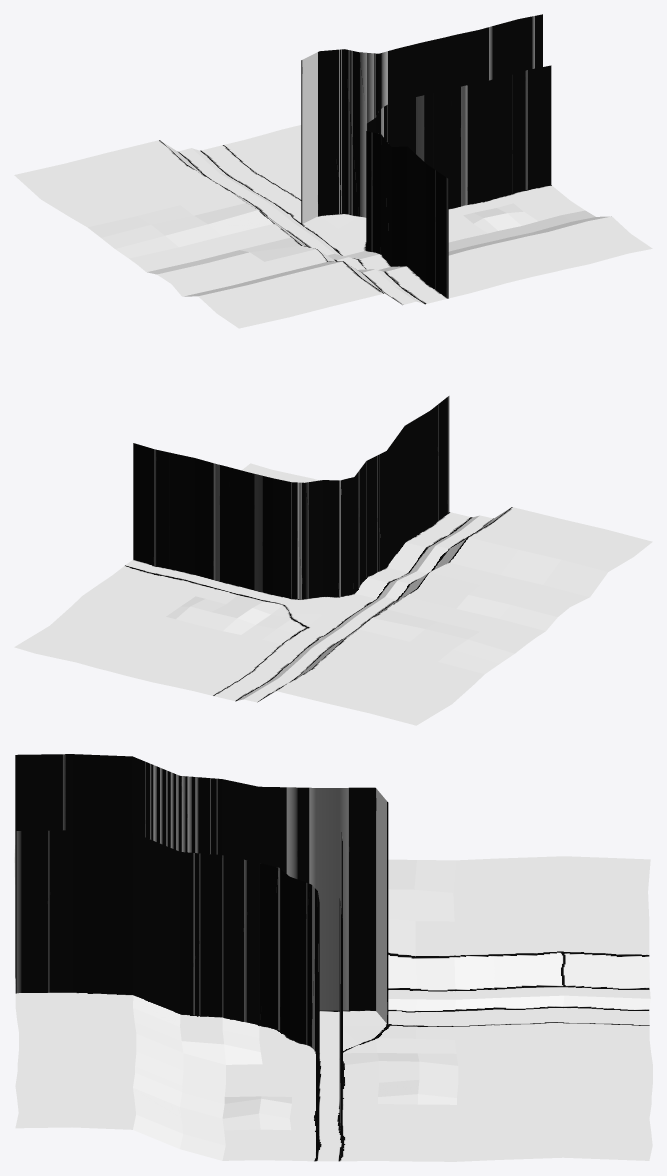
File: Area5Mesh.fbx
3 renders of one model, top to bottom at view 1: azimuth 30°, elevation 25°; view 2: azimuth 150°, elevation 25°; view 3: azimuth 270°, elevation 25°, orthographic. The views are drawn at different scales.
Visible parts, largest first — view 1: Terrain, Wall1, Wall2\, Traversable; view 2: Terrain, Wall1, Traversable; view 3: Terrain, Wall1, Wall2\, Traversable.
Part boxes in pixels (x1=…): Terrain: x1=14, y1=125, x2=652, y2=328; Wall1: x1=366, y1=65, x2=551, y2=298; Wall2\: x1=301, y1=14, x2=542, y2=224; Traversable: x1=301, y1=213, x2=448, y2=304; Terrain: x1=14, y1=463, x2=652, y2=725; Wall1: x1=133, y1=396, x2=449, y2=599; Traversable: x1=125, y1=512, x2=471, y2=629; Terrain: x1=14, y1=845, x2=652, y2=1161; Wall1: x1=15, y1=830, x2=319, y2=1160; Wall2\: x1=15, y1=754, x2=388, y2=1142; Traversable: x1=15, y1=978, x2=387, y2=1161.
Bounding box in the file's own units: 21194 × 8776 × 20358.
Materials: 1 (1 with a texture image).
